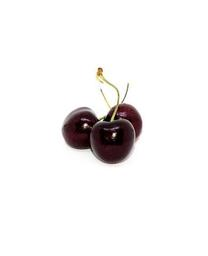cherry: (90, 116, 134, 164), (62, 106, 100, 149), (106, 104, 143, 141)
